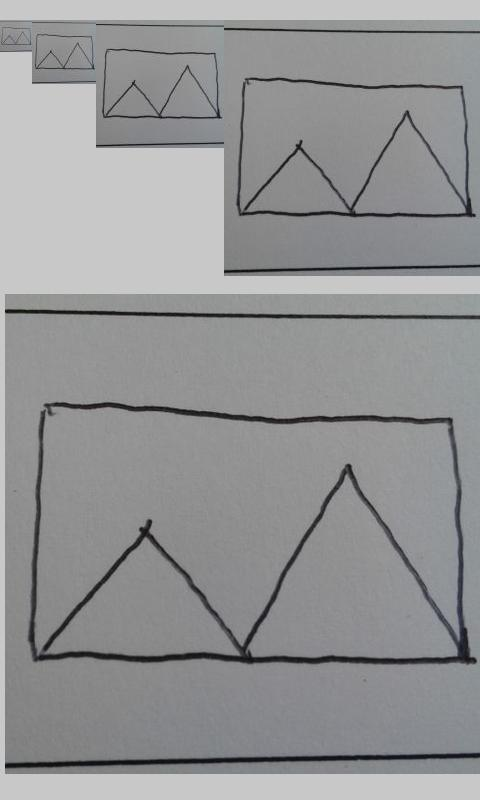image_view: (28, 398, 472, 674), (235, 76, 474, 219), (101, 49, 223, 121), (33, 32, 95, 71), (1, 26, 32, 46)
